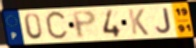0: (23, 13, 44, 42)
4: (101, 8, 122, 39)
C: (44, 9, 70, 43)
J: (155, 7, 174, 35)
K: (127, 8, 150, 37)
P: (71, 9, 98, 40)
